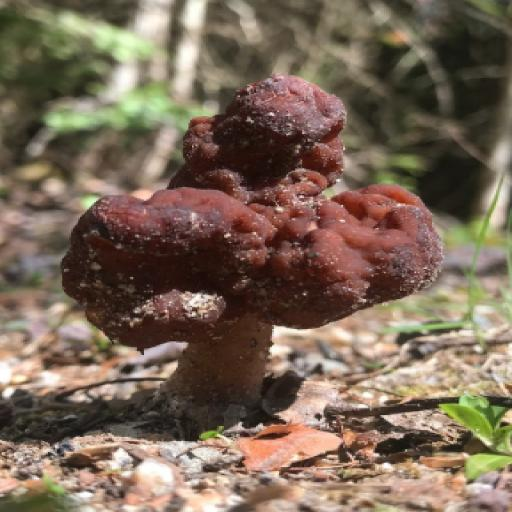False Morel: (49, 58, 452, 453)
